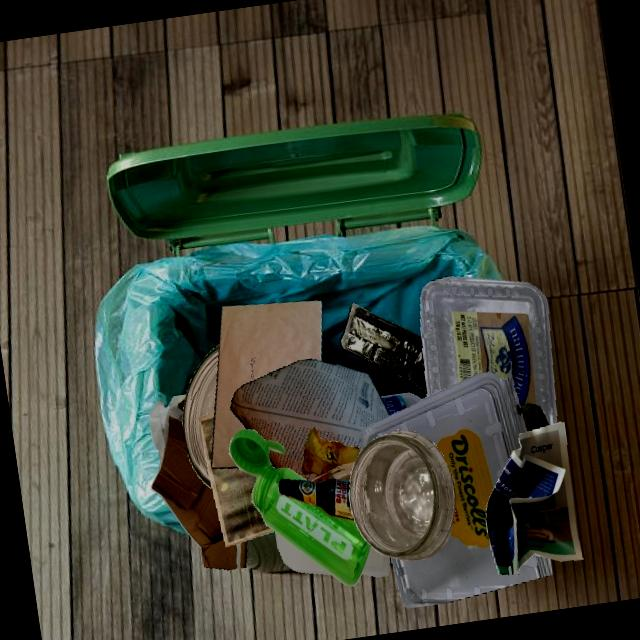biowaste: (302, 427, 359, 476)
cardboard: (149, 394, 247, 570)
glass: (349, 430, 456, 561), (182, 344, 219, 489), (278, 478, 355, 521), (311, 462, 355, 483), (521, 403, 549, 432)
paper: (230, 359, 390, 481), (211, 301, 322, 469), (486, 422, 583, 574), (199, 413, 274, 547)
plastic: (360, 370, 552, 608), (229, 429, 371, 586), (420, 277, 557, 425), (340, 303, 427, 392), (275, 532, 332, 575), (381, 393, 422, 416), (361, 546, 390, 577)
